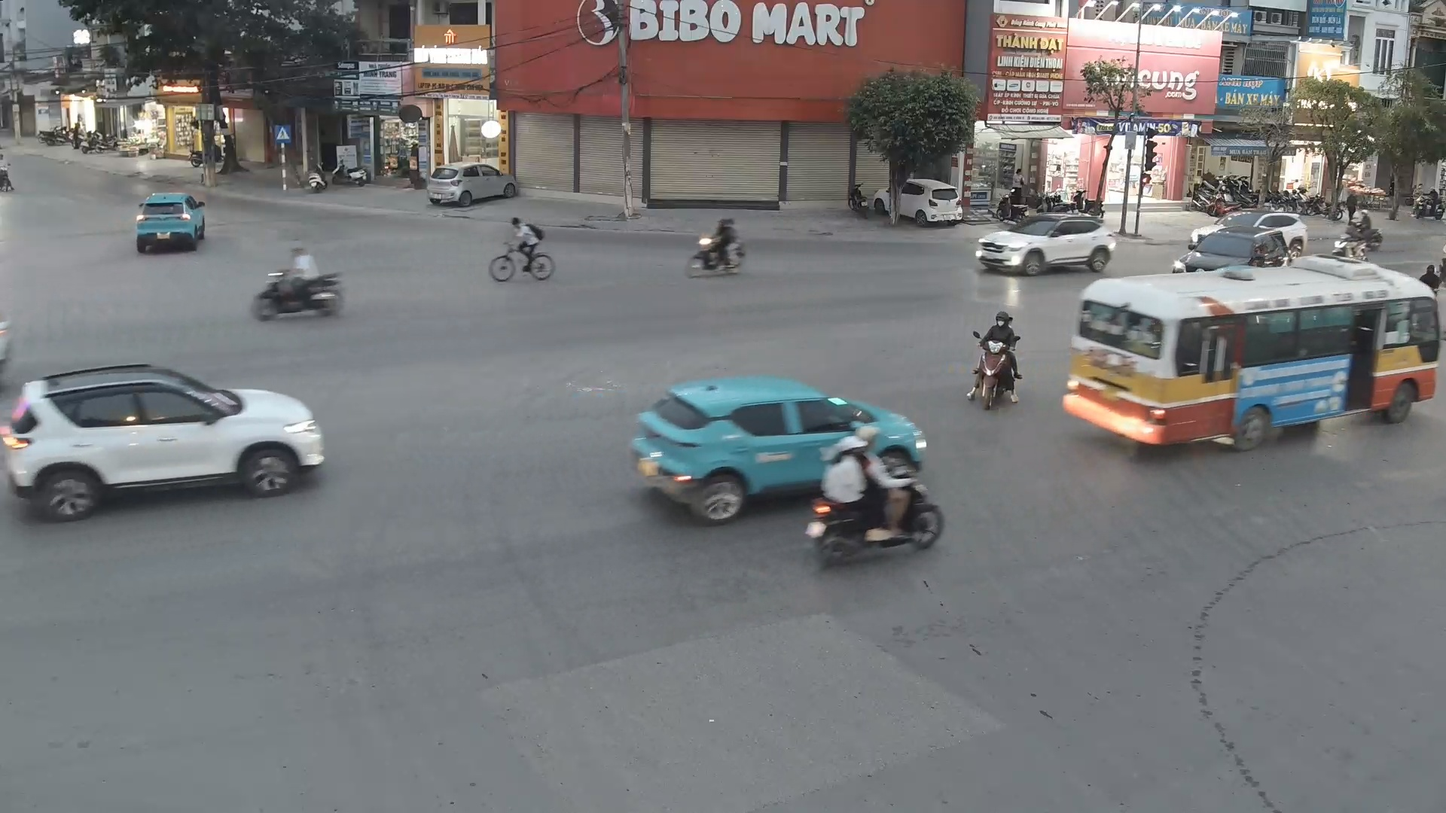bus: (1063, 262, 1444, 454)
car: (0, 363, 326, 516), (627, 373, 932, 522), (975, 212, 1119, 277), (133, 189, 208, 254), (426, 161, 520, 210)
motorbike: (805, 420, 947, 568), (249, 243, 347, 321), (966, 307, 1026, 413), (487, 215, 558, 284), (686, 216, 746, 277)
